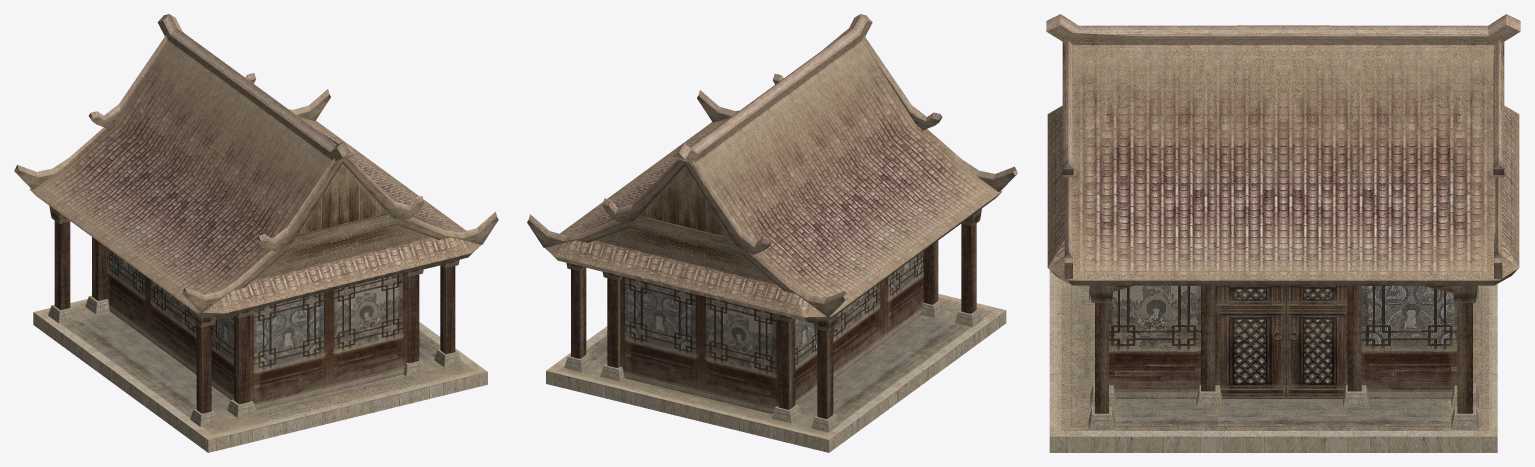
The model's file is desert-032-shamanhouse.glb.
The picture shows the model from 3 angles, left to right: view 1: azimuth 30°, elevation 25°; view 2: azimuth 150°, elevation 25°; view 3: azimuth 270°, elevation 25°; orthographic projection. The views are drawn at different scales.
Visible parts, largest first — view 1: desert-032-shamanhouse-1, desert-032-shamanhouse-2; view 2: desert-032-shamanhouse-1, desert-032-shamanhouse-2; view 3: desert-032-shamanhouse-1, desert-032-shamanhouse-2.
Part boxes in pixels (x1,y1,x2,y2): desert-032-shamanhouse-1: (14,14,498,317); desert-032-shamanhouse-2: (33,206,487,452); desert-032-shamanhouse-1: (527,14,1017,321); desert-032-shamanhouse-2: (546,208,1006,452); desert-032-shamanhouse-1: (1046,14,1520,285); desert-032-shamanhouse-2: (1049,270,1497,452).
Bounding box in the file's own units: 8.08 × 6.75 × 8.26.
2 materials, 2 textured.
